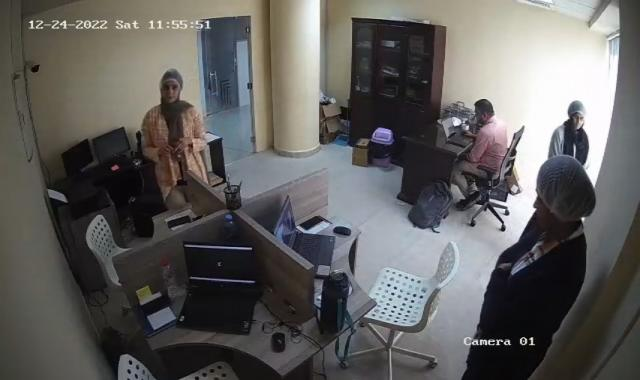hairnet: (532, 155, 596, 229), (156, 68, 186, 103), (564, 98, 588, 132)
no_hairnet: (472, 96, 495, 126)
